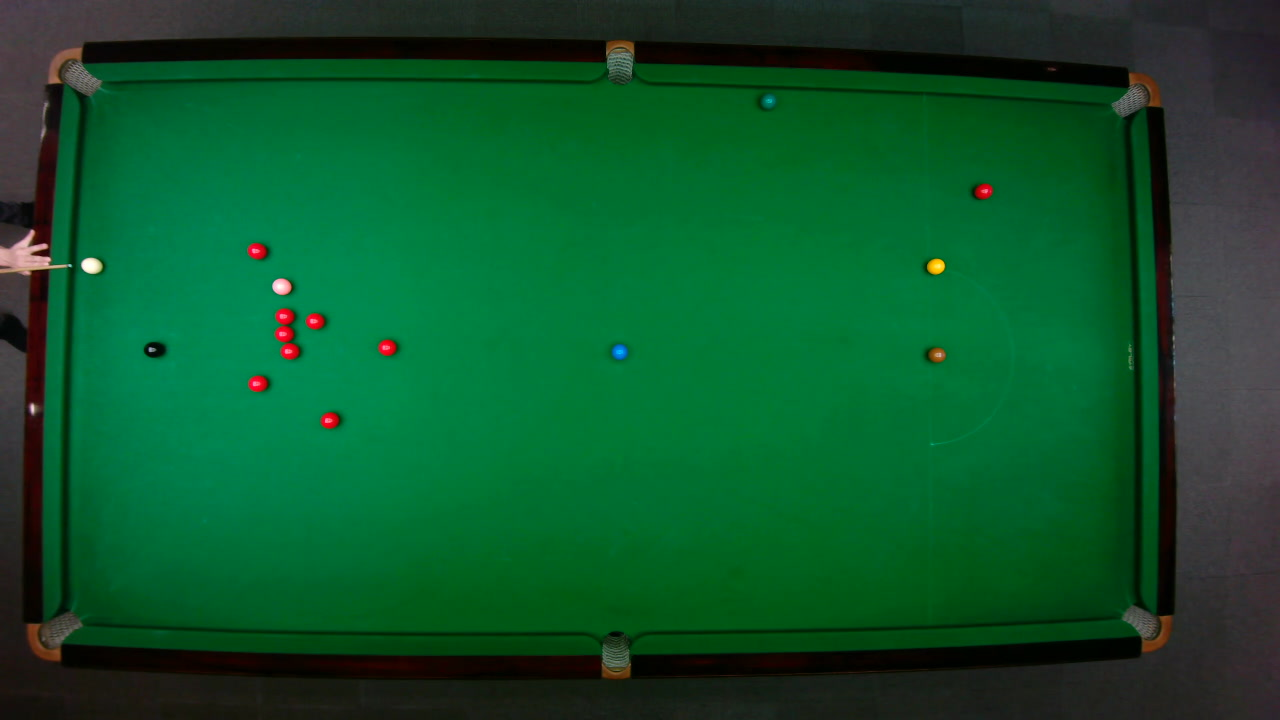bag: (24, 609, 84, 662), (45, 46, 102, 96), (1119, 603, 1172, 652), (1108, 71, 1161, 118), (600, 629, 629, 680), (605, 38, 633, 85)
black: (142, 340, 164, 358)
blue: (609, 342, 628, 360)
brown: (926, 346, 946, 362)
cue: (0, 262, 75, 275)
green: (759, 92, 776, 110)
pink: (270, 276, 292, 295)
red: (318, 410, 340, 429), (246, 374, 269, 392), (376, 337, 397, 356), (303, 311, 325, 329), (245, 241, 267, 259), (278, 342, 300, 360), (273, 306, 294, 324), (272, 325, 294, 342), (972, 182, 994, 199)
white: (79, 255, 104, 274)
yellow: (925, 257, 945, 274)
zone: (927, 266, 1014, 445)
